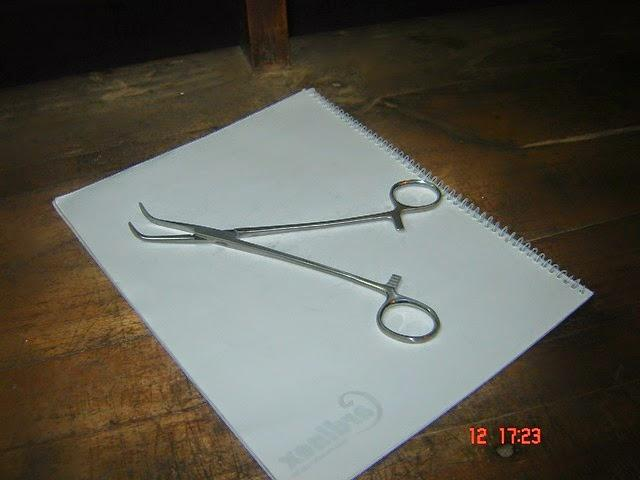Rectangle Cholecystectomy Forceps: (126, 176, 457, 352)
